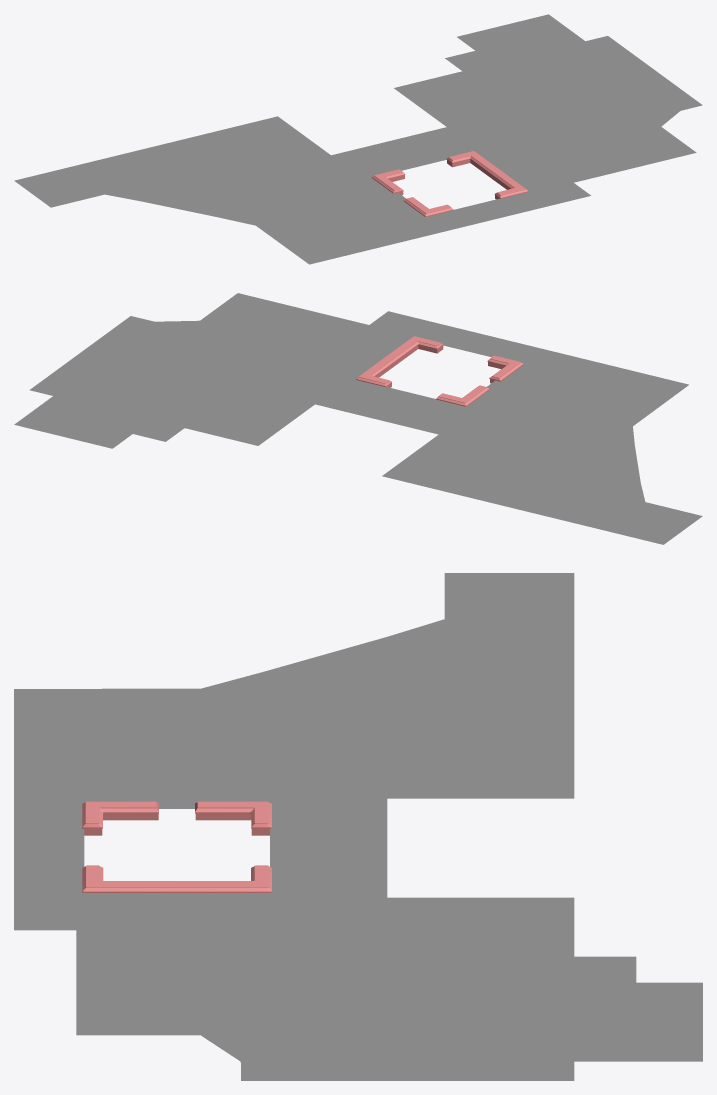
Rendered from S_Envi_Umeda_hall_06.gltf.
3 views of the same model, one above another, from view 1: azimuth 30°, elevation 25°; view 2: azimuth 150°, elevation 25°; view 3: azimuth 270°, elevation 25° (orthographic). The views are drawn at different scales.
Visible parts, largest first — view 1: S_Envi_Umeda_hall_06; view 2: S_Envi_Umeda_hall_06; view 3: S_Envi_Umeda_hall_06.
Boxes of the visible parts, x1,y1,x2,y2 form: S_Envi_Umeda_hall_06: (14, 14, 702, 264); S_Envi_Umeda_hall_06: (14, 293, 702, 544); S_Envi_Umeda_hall_06: (14, 573, 702, 1080).
Bounding box in the file's own units: 48.27 × 0.5048 × 27.67.
